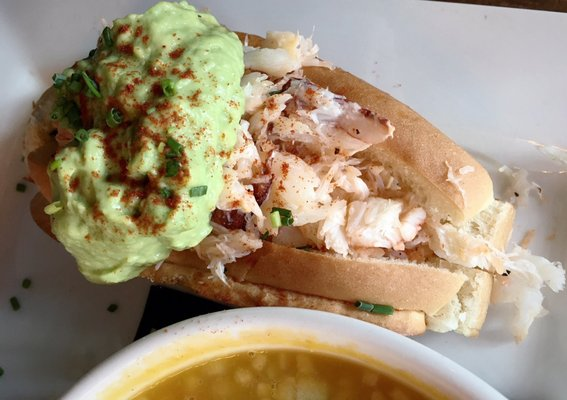sushi: (68, 306, 531, 396)
